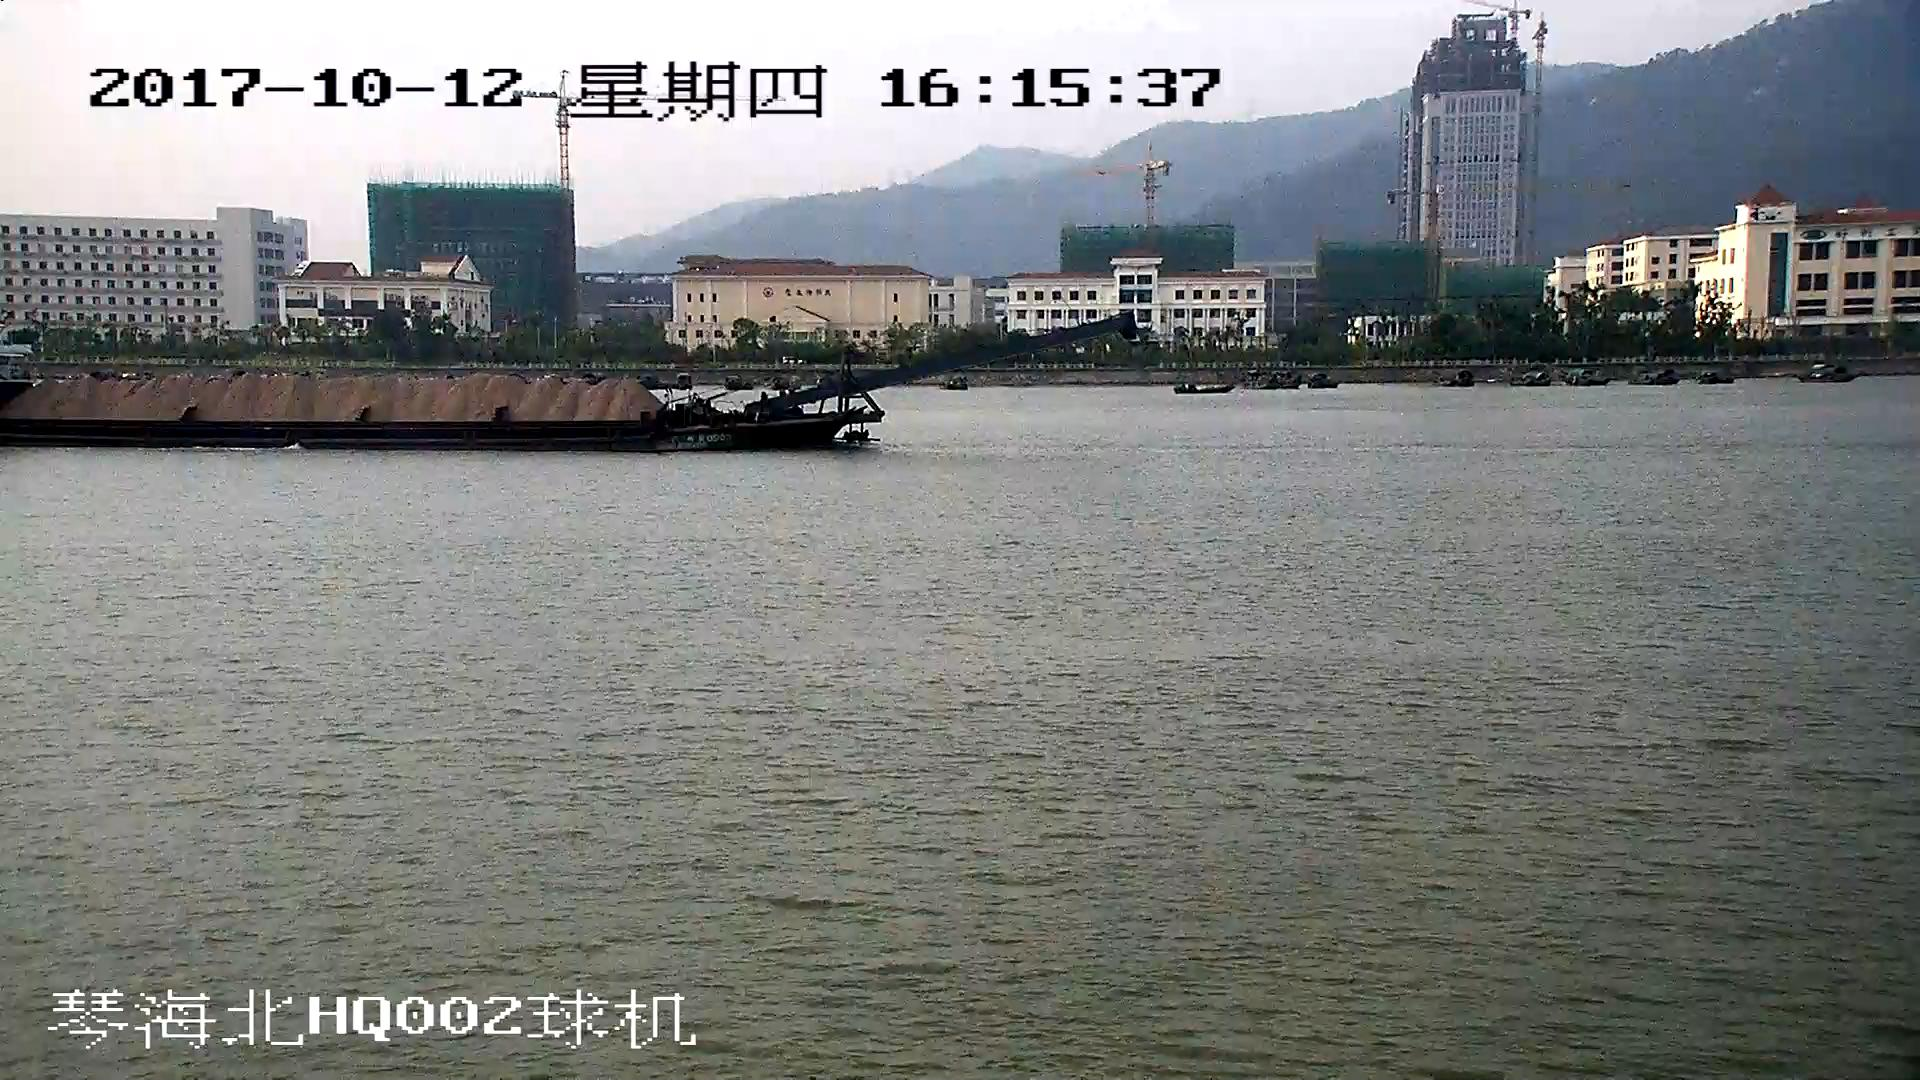ore carrier: (1, 314, 1129, 450)
